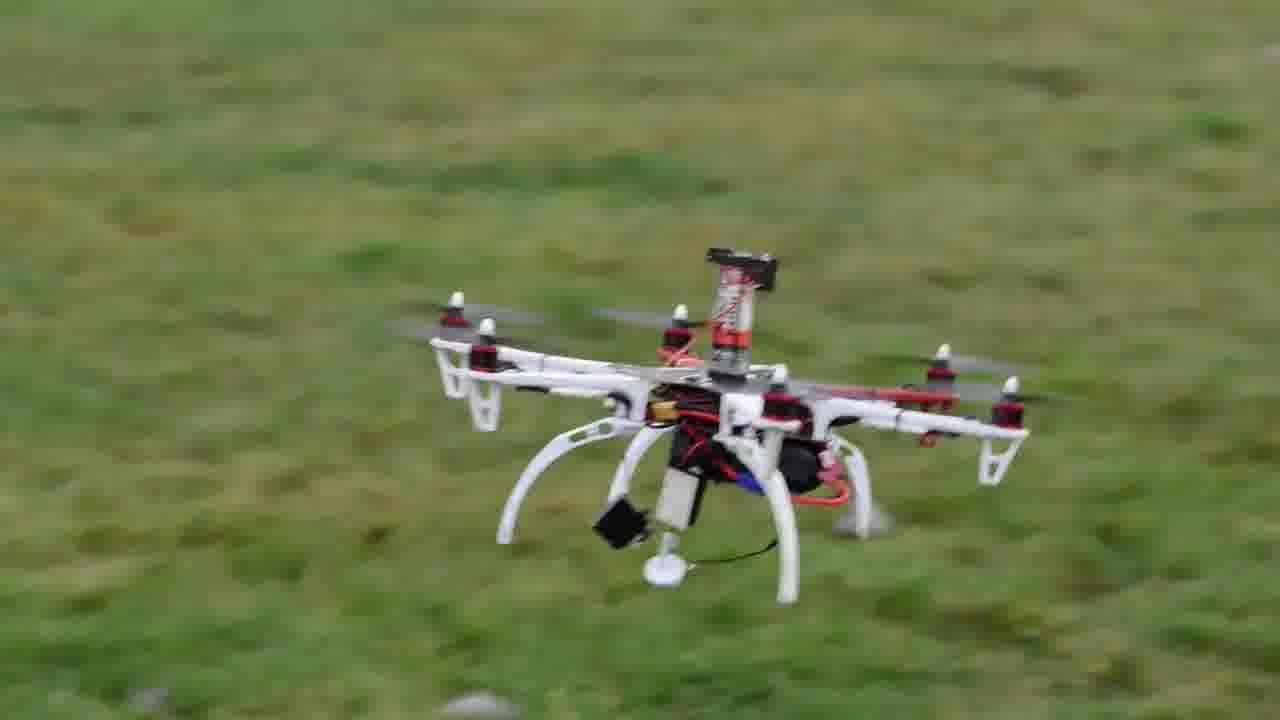drone: (395, 238, 905, 604)
